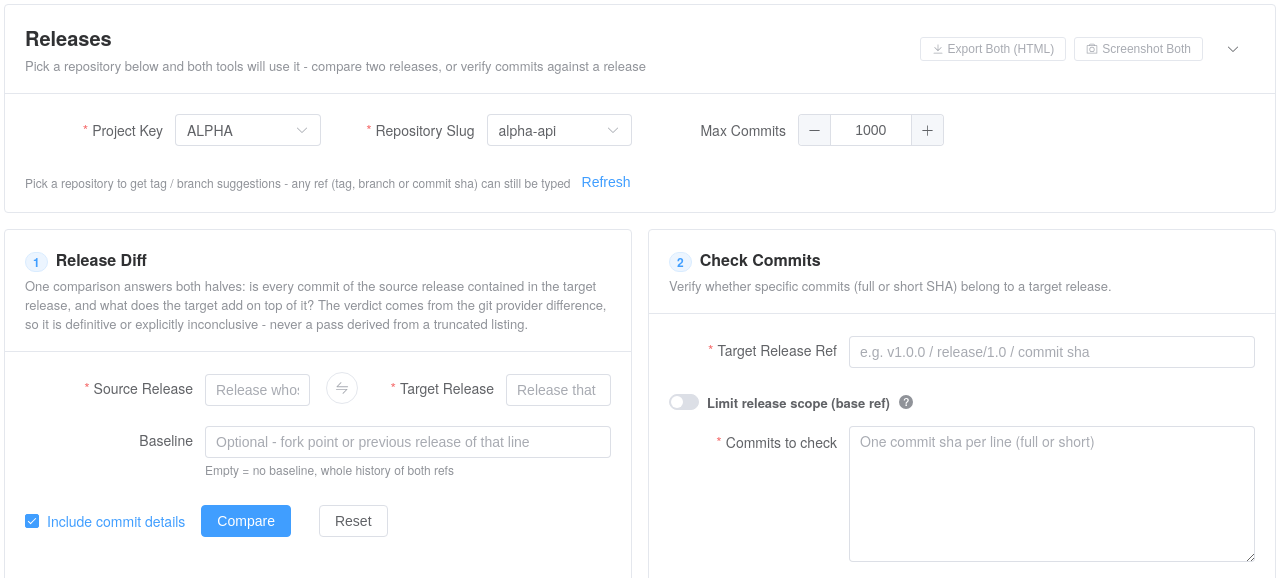
Scenario: ReleasesView › loads tag and branch suggestions of the selected repository
Click the button "Refresh": point(606, 182) [578,172,634,192]
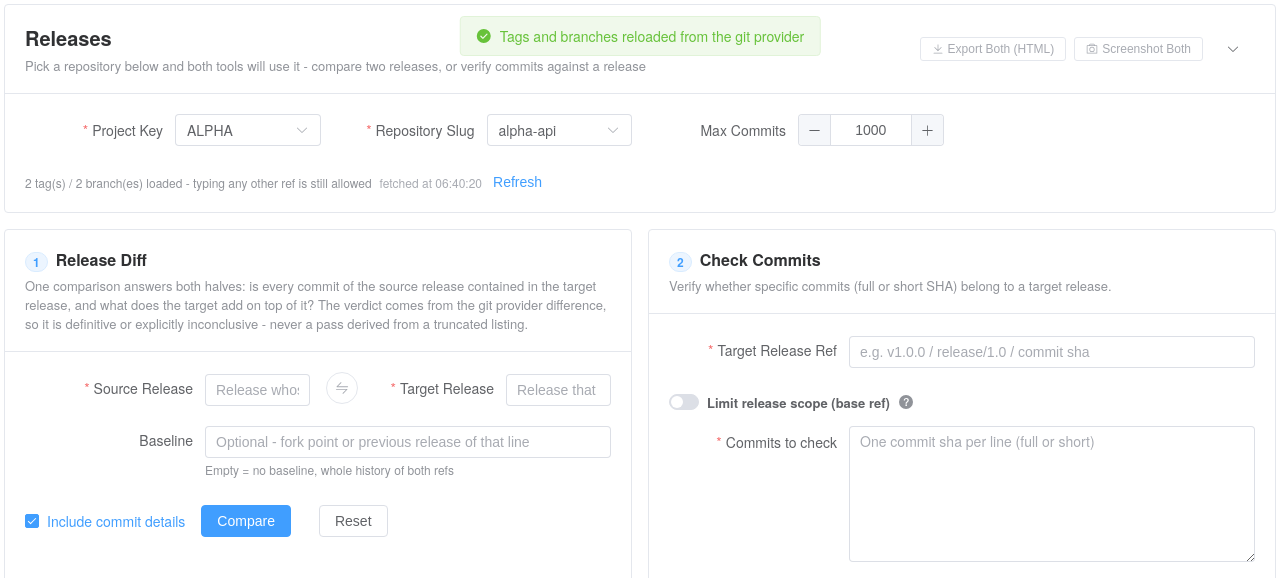
Check: the text "2 tag(s) / 2 branch(es) loaded" is shown, box [25,174,372,190]
